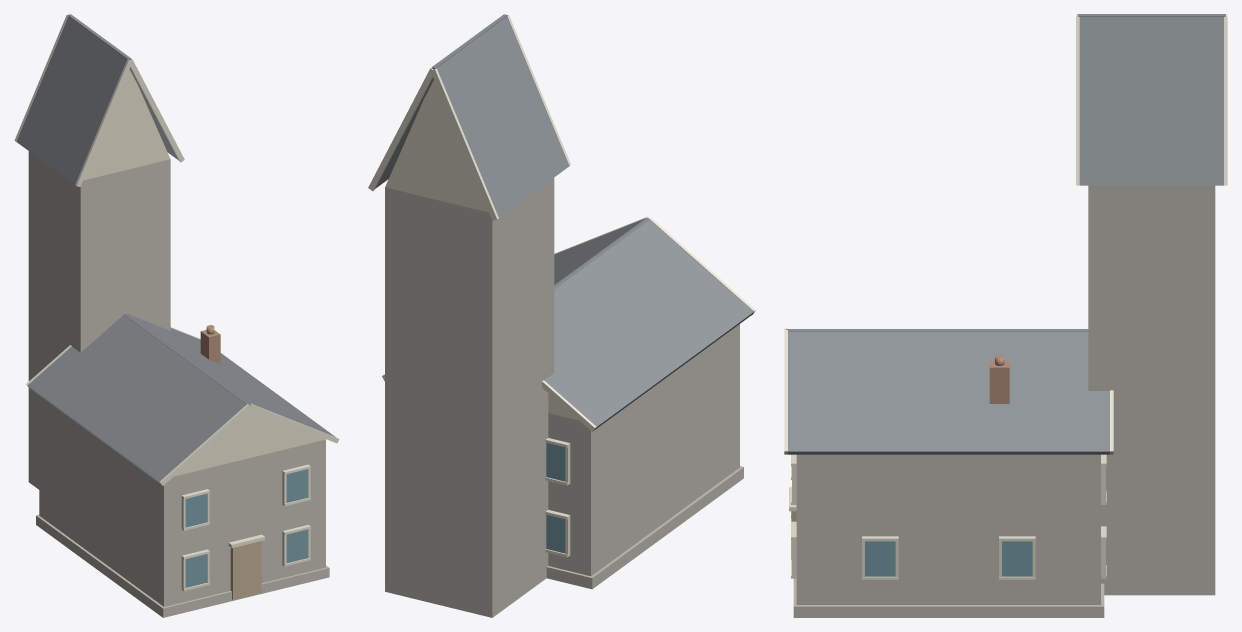
The model's file is tyne-church_lod1.glb.
3 renders of one model, left to right at view 1: azimuth 30°, elevation 25°; view 2: azimuth 150°, elevation 25°; view 3: azimuth 270°, elevation 25°, orthographic. The views are drawn at different scales.
Visible parts, largest first — view 1: RF_Body, RF_ChurchTower, RF_Roof.001, RF_Roof.003, RF_Gable.002, RF_Gable, RF_Roof.002, RF_Foundation, RF_Door.001, RF_Vergeband.005, RF_Vergeband.001, RF_Vergeband.007 (+7 smaller); view 2: RF_ChurchTower, RF_Body, RF_Roof.001, RF_Roof.003, RF_Gable.003, RF_Foundation, RF_Roof.002, RF_Vergeband.006, RF_Vergeband, RF_Window.005, RF_Window.006, RF_Roof; view 3: RF_ChurchTower, RF_Body, RF_Roof.002, RF_Roof, RF_Foundation, RF_Window.009, RF_Window, RF_Ridge.001, RF_Chimney, RF_Vergeband.007, RF_Vergeband.
Part boxes in pixels (bbox=[...]): RF_Body: bbox=[39, 395, 325, 606]; RF_ChurchTower: bbox=[28, 151, 170, 489]; RF_Roof.001: bbox=[27, 314, 247, 484]; RF_Roof.003: bbox=[16, 16, 127, 184]; RF_Gable.002: bbox=[83, 69, 170, 180]; RF_Gable: bbox=[174, 409, 325, 476]; RF_Roof.002: bbox=[127, 314, 335, 436]; RF_Foundation: bbox=[36, 514, 329, 617]; RF_Door.001: bbox=[230, 541, 261, 599]; RF_Vergeband.005: bbox=[75, 59, 131, 186]; RF_Vergeband.001: bbox=[159, 404, 249, 485]; RF_Vergeband.007: bbox=[129, 59, 184, 162]; RF_ChurchTower: bbox=[385, 178, 554, 617]; RF_Body: bbox=[548, 324, 739, 576]; RF_Roof.001: bbox=[544, 219, 753, 429]; RF_Roof.003: bbox=[436, 17, 568, 217]; RF_Gable.003: bbox=[385, 80, 488, 212]; RF_Foundation: bbox=[546, 466, 743, 589]; RF_Roof.002: bbox=[554, 218, 646, 285]; RF_Vergeband.006: bbox=[430, 68, 498, 220]; RF_Vergeband: bbox=[368, 67, 433, 191]; RF_Window.005: bbox=[546, 514, 565, 553]; RF_Window.006: bbox=[546, 443, 565, 481]; RF_Roof: bbox=[375, 77, 433, 188]; RF_ChurchTower: bbox=[1088, 185, 1215, 595]; RF_Body: bbox=[796, 454, 1100, 604]; RF_Roof.002: bbox=[788, 330, 1109, 454]; RF_Roof: bbox=[1079, 16, 1223, 185]; RF_Foundation: bbox=[793, 578, 1104, 617]; RF_Window.009: bbox=[865, 541, 895, 576]; RF_Window: bbox=[1002, 541, 1032, 576]; RF_Ridge.001: bbox=[786, 329, 1088, 331]; RF_Chimney: bbox=[989, 360, 1009, 403]; RF_Vergeband.007: bbox=[1076, 16, 1079, 185]; RF_Vergeband: bbox=[1224, 16, 1227, 185].
Bounding box in the file's own units: 9.93 × 24.08 × 17.48.
